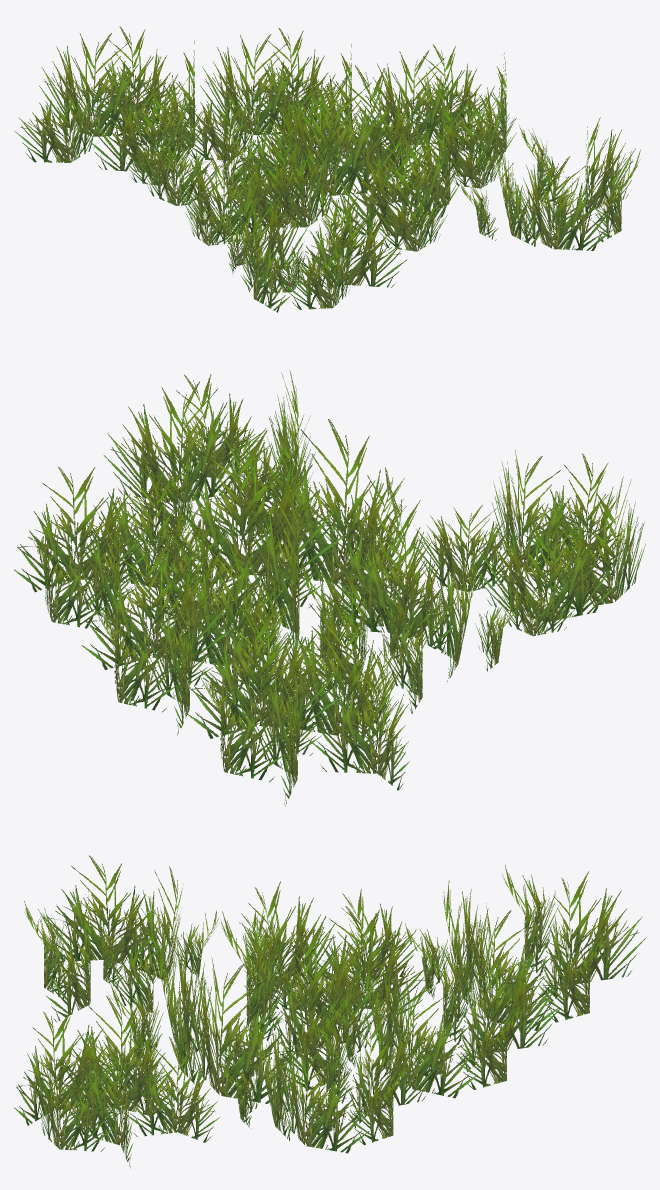
The model's file is obj_macoprgr4.glb.
The picture shows the model from 3 angles, top to bottom: view 1: azimuth 30°, elevation 25°; view 2: azimuth 150°, elevation 25°; view 3: azimuth 270°, elevation 25°; orthographic projection. The views are drawn at different scales.
Parts seen in each view (by area): view 1: part_0; view 2: part_0; view 3: part_0.
Part boxes in pixels (box(x1,y1,x2,y2)): part_0: box(14, 26, 640, 312); part_0: box(14, 370, 645, 806); part_0: box(14, 855, 645, 1168).
Size of the model in its own units: 5.98 by 1.67 by 6.71.
1 material, 1 textured.
